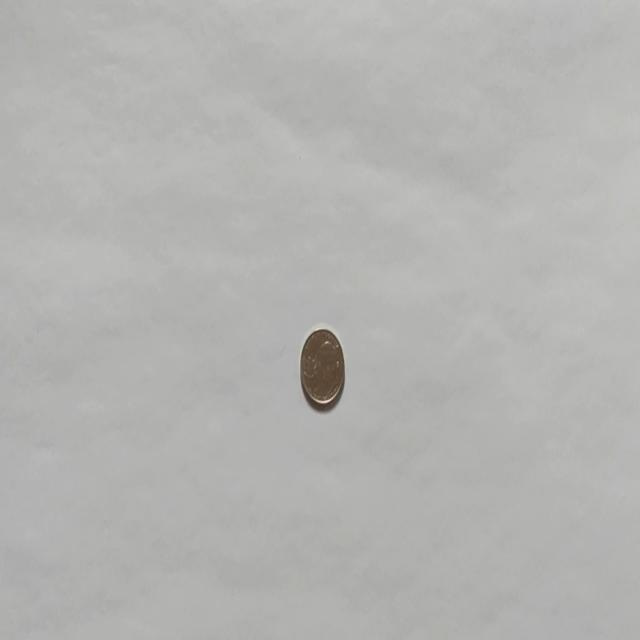seribu rupiah koin: (298, 325, 346, 410)
